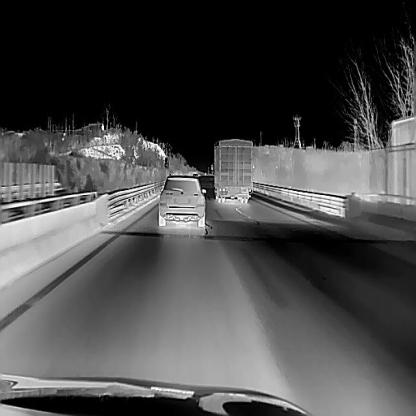car: (210, 138, 252, 202)
truck: (156, 173, 206, 227)
